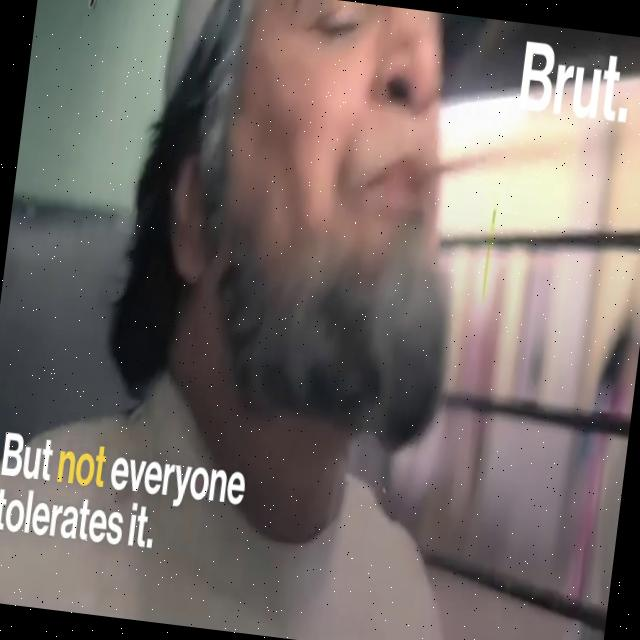spit: (351, 63, 640, 254)
